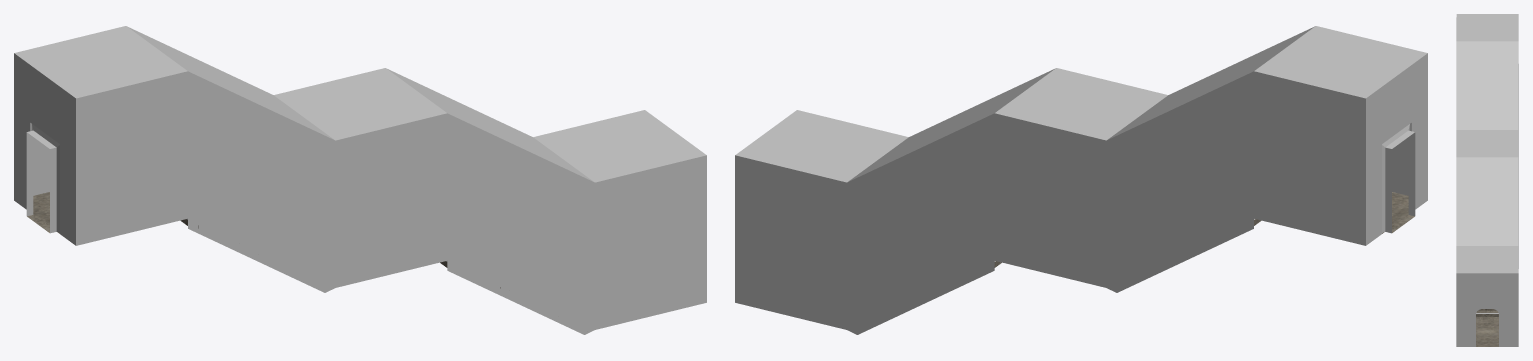
File: TunnelSpace_ExitRoom.FBX
The picture shows the model from 3 angles, left to right: view 1: azimuth 30°, elevation 25°; view 2: azimuth 150°, elevation 25°; view 3: azimuth 270°, elevation 25°; orthographic projection. The views are drawn at different scales.
Parts seen in each view (by area): view 1: TunnelSpace_ExitRoom; view 2: TunnelSpace_ExitRoom; view 3: TunnelSpace_ExitRoom.
Part boxes in pixels (x1=…): TunnelSpace_ExitRoom: x1=14, y1=26, x2=706, y2=334; TunnelSpace_ExitRoom: x1=735, y1=26, x2=1427, y2=334; TunnelSpace_ExitRoom: x1=1456, y1=14, x2=1518, y2=346.
Size of what is drawn, in the model's own units: 1870 by 1011 by 315.
